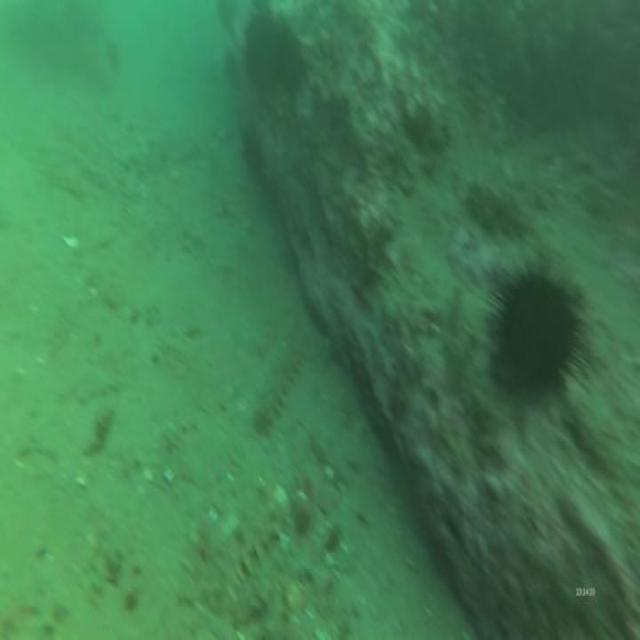echinus: (484, 260, 580, 408), (236, 5, 308, 91)
holothurian: (204, 512, 282, 612), (253, 329, 310, 433)
